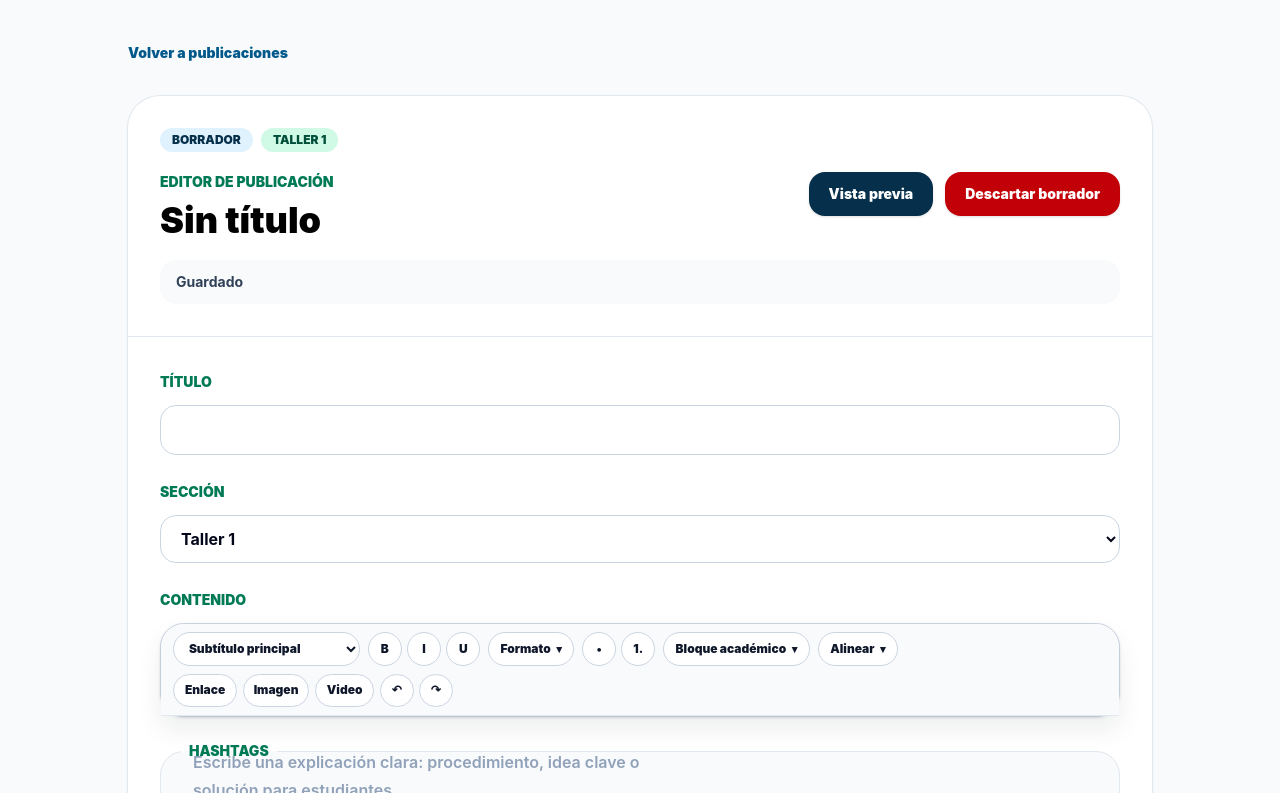
AdminPostEditorView › renders preview images with caption and display size through the public renderer
Step 1. Click the button "Vista previa" → (871, 194), box [809,172,933,216]
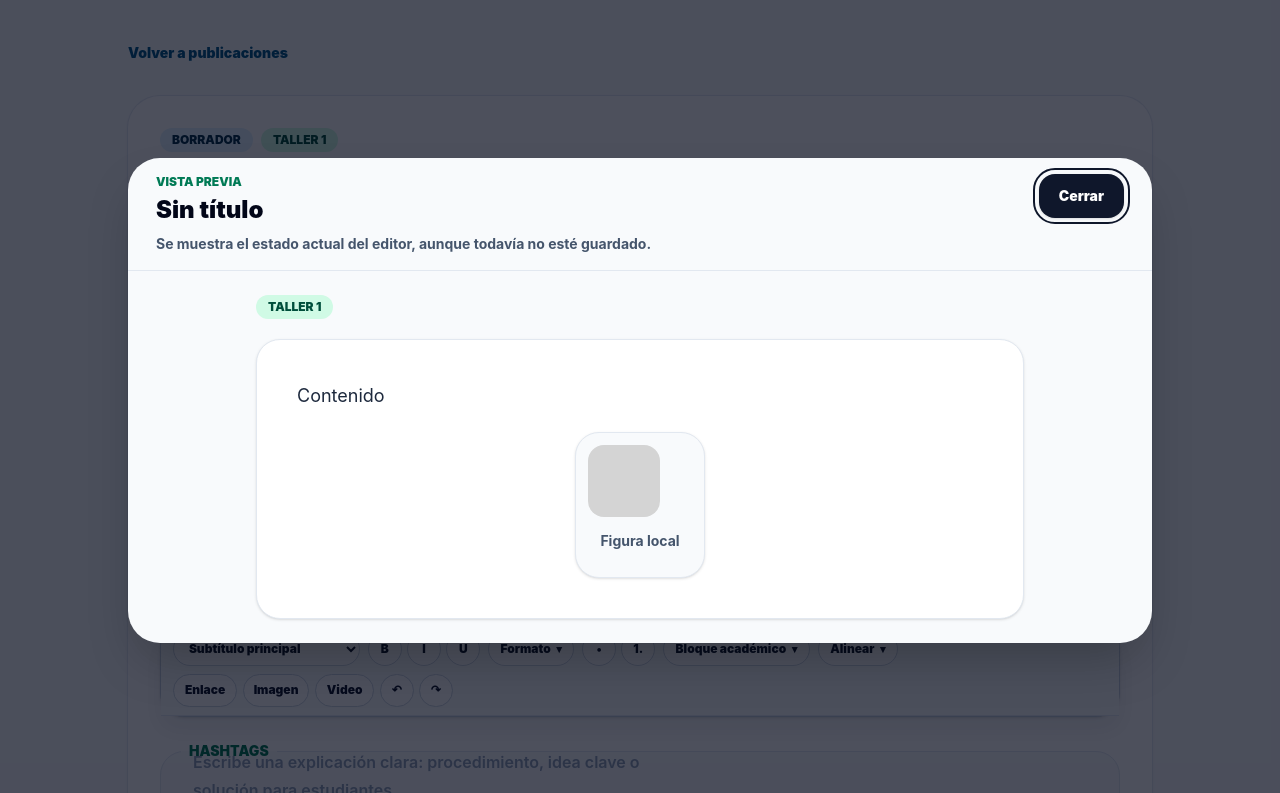
Now the element showing "Contenido Figura local" is shown, box [256,338,1024,618]
Now the dialog shows "Figura local", box [600,532,680,548]
